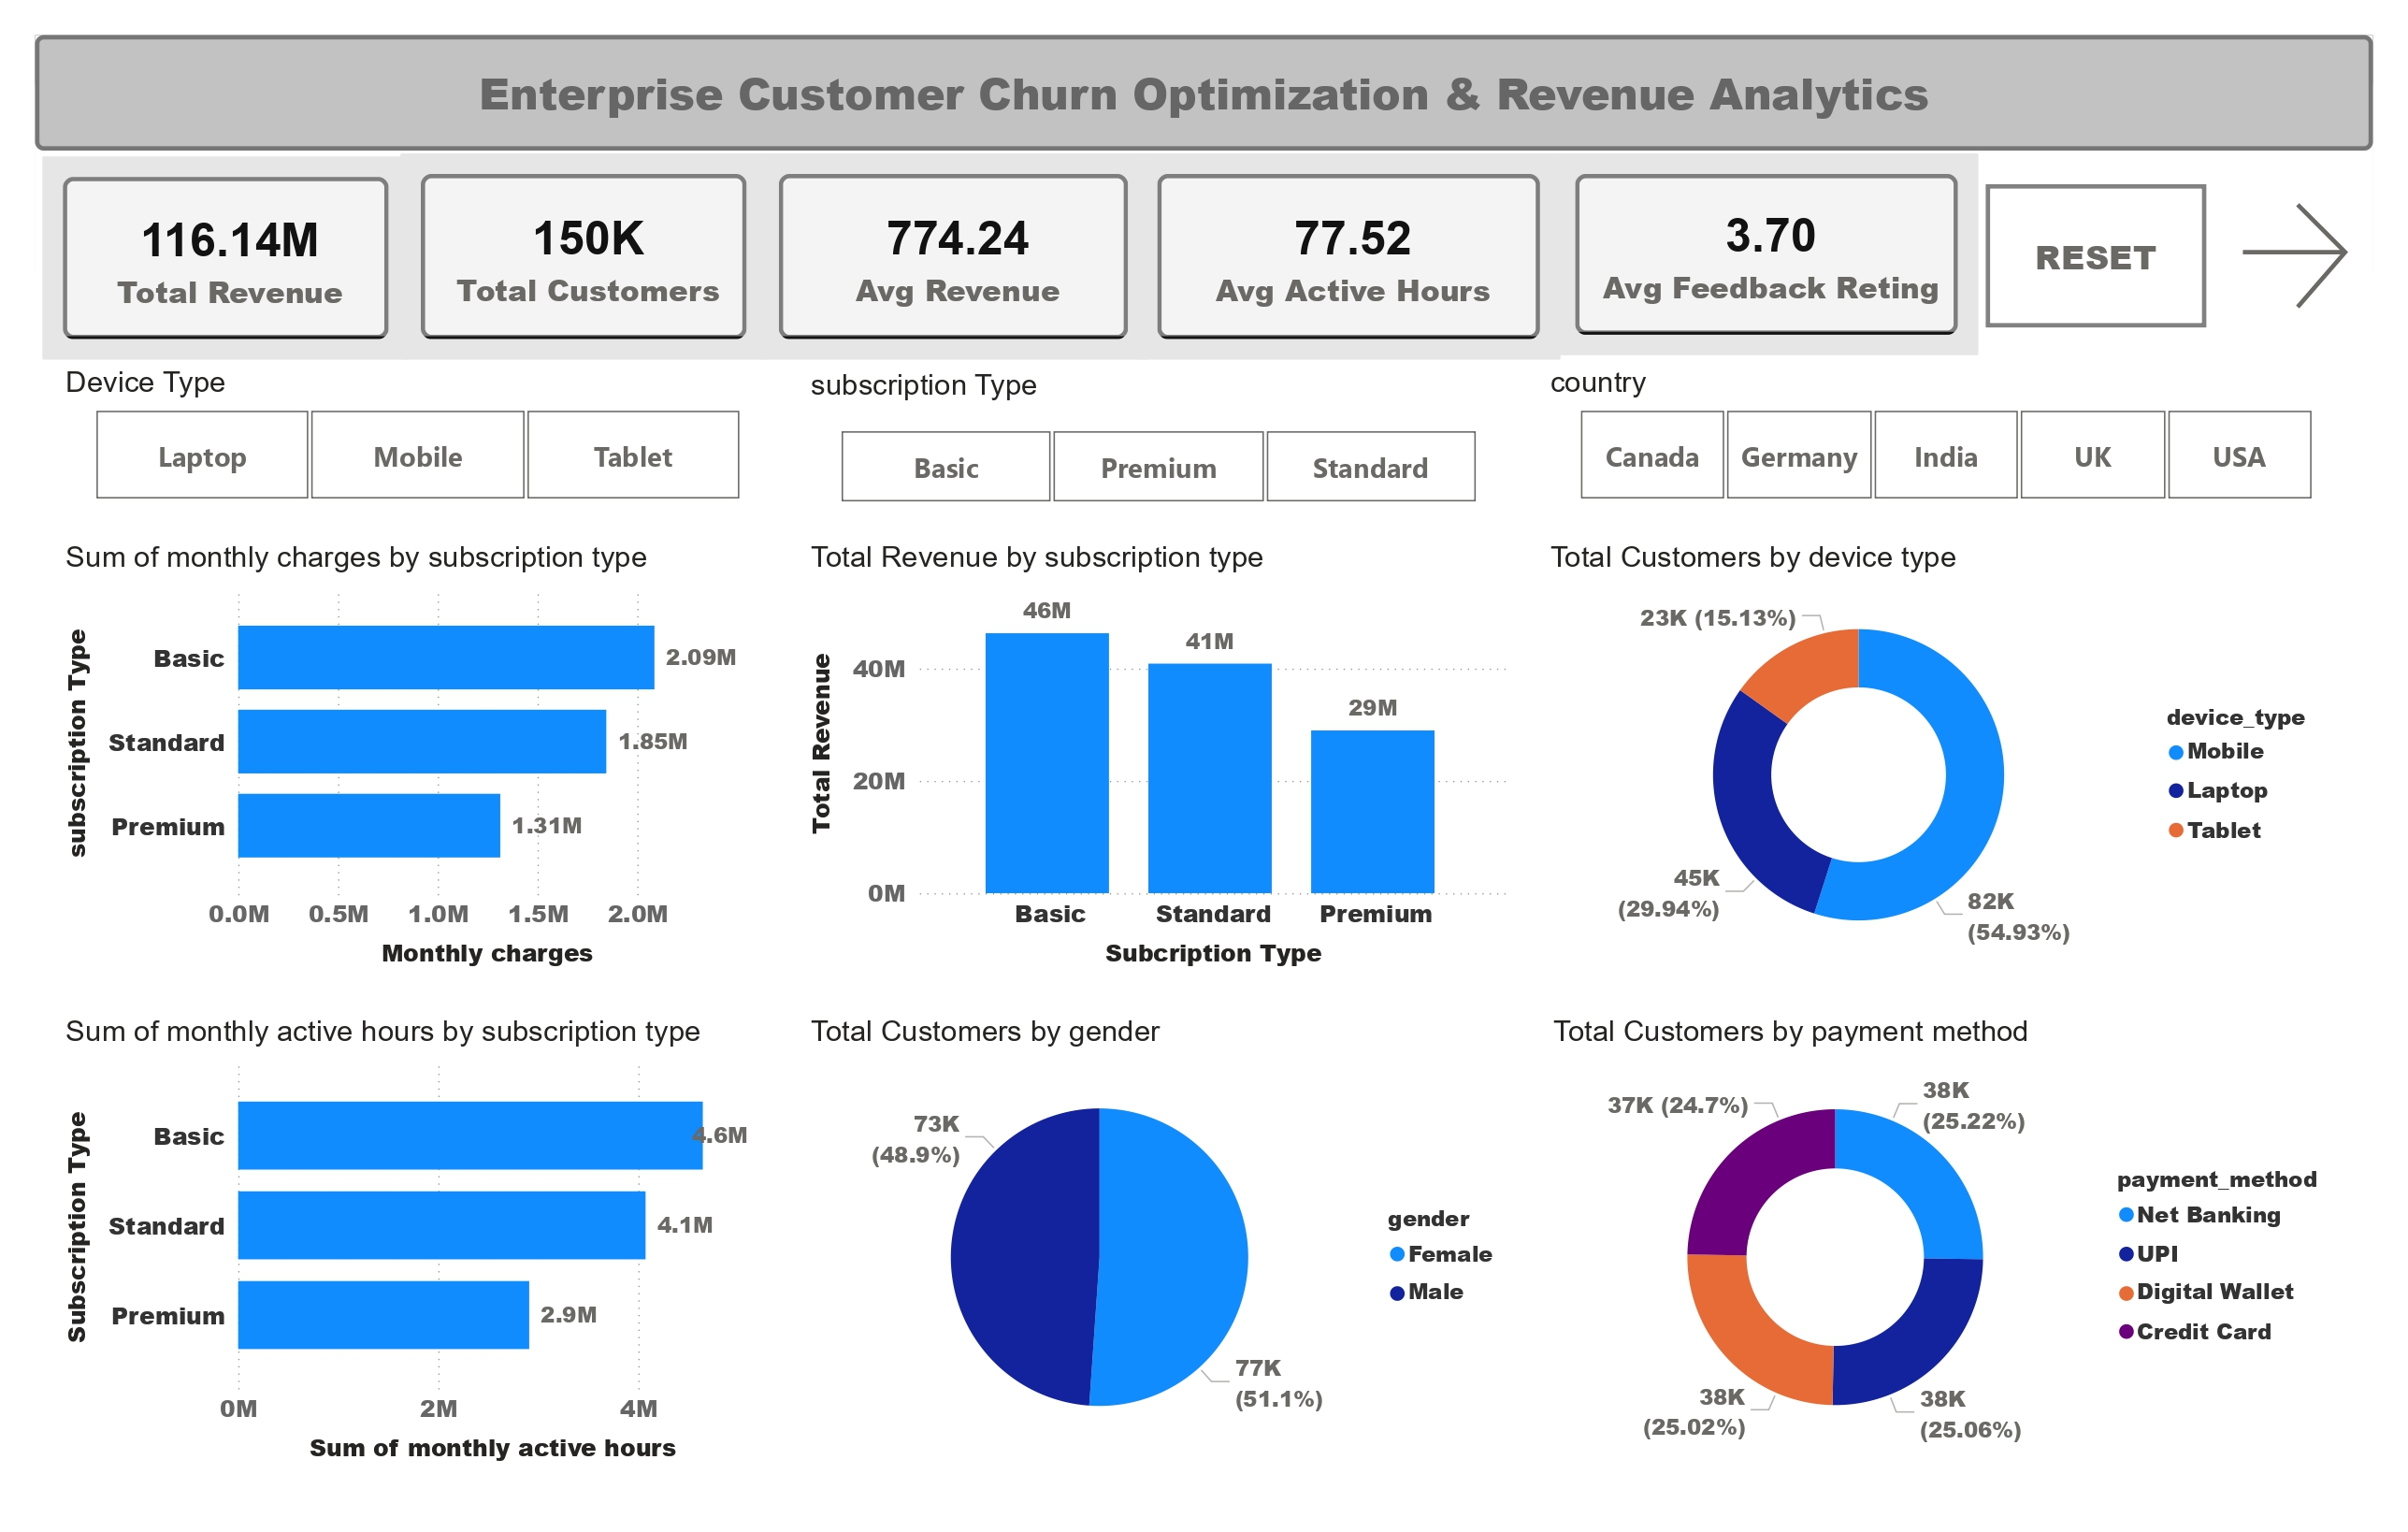

Layout of this report page (visuals, bound fields, positions):
{"tool":"powerbi","page":{"name":"Page 1","canvas":[1600,1000],"ordinal":0},"visuals":[{"type":"shape","box":[0,0,1600,79.1],"z":0},{"type":"cardVisual","fields":{"Data":["customer_churn.Total Customers"]},"box":[244.9,75.5,261.2,151],"z":1000},{"type":"cardVisual","fields":{"Data":["customer_churn.Total Revenue"]},"box":[0,77.6,261.2,149],"z":2000},{"type":"cardVisual","fields":{"Data":["customer_churn.Avg Revenue"]},"box":[489.8,75.5,277.6,151],"z":3000},{"type":"cardVisual","fields":{"Data":["customer_churn.Avg Active Hours"]},"box":[749,75.5,300,151],"z":4000},{"type":"cardVisual","fields":{"Data":["customer_churn.Average_Feedback_reting"]},"box":[1034.7,75.5,300,149],"z":5000},{"type":"clusteredColumnChart","title":"Total Revenue by subscription type","fields":{"Category":["customer_churn.subscription_type"],"Y":["customer_churn.Total Revenue"]},"box":[526,346,486,298],"z":6000},{"type":"donutChart","title":"Total Customers by device type","fields":{"Y":["customer_churn.Total Customers"],"Category":["customer_churn.device_type"]},"box":[1032,346,550,298],"z":7000},{"type":"donutChart","title":"Total Customers by payment method","fields":{"Y":["customer_churn.Total Customers"],"Category":["customer_churn.payment_method"]},"box":[1034,670,556,310],"z":8000},{"type":"clusteredBarChart","title":"Sum of monthly active hours by subscription type","fields":{"Y":["Sum(customer_churn.monthly_active_hours)"],"Category":["customer_churn.subscription_type"]},"box":[16,670,490,312],"z":9000},{"type":"pieChart","fields":{"Y":["customer_churn.Total Customers"],"Category":["customer_churn.gender"]},"box":[526,670,486,310],"z":10000},{"type":"slicer","title":"country","fields":{"Values":["customer_churn.country"]},"box":[1032,226,550,98],"z":11000},{"type":"slicer","title":"subscription Type","fields":{"Values":["customer_churn.subscription_type"]},"box":[526,228,484,98],"z":12000},{"type":"slicer","title":"Device Type","fields":{"Values":["customer_churn.device_type"]},"box":[16,226,490,98],"z":13000},{"type":"barChart","title":"Sum of monthly charges by subscription type","fields":{"Category":["customer_churn.subscription_type"],"Y":["Sum(customer_churn.monthly_charges)"]},"box":[16,346,490,298],"z":14000},{"type":"actionButton","box":[1502,102,88,98],"z":15000},{"type":"actionButton","box":[1334.7,102,151,98],"z":16000}]}

Visuals, with their boxes on the page's 1600x1000 design canvas (x1, y1, x2, y2). These are canvas units, not pixel positions in the 2408x1532 screenshot, which may show the page scaled, cropped or inside an application window:
shape: <region>0, 0, 1600, 79</region>
cardVisual - customer_churn.Total Customers: <region>245, 76, 506, 226</region>
cardVisual - customer_churn.Total Revenue: <region>0, 78, 261, 227</region>
cardVisual - customer_churn.Avg Revenue: <region>490, 76, 767, 226</region>
cardVisual - customer_churn.Avg Active Hours: <region>749, 76, 1049, 226</region>
cardVisual - customer_churn.Average_Feedback_reting: <region>1035, 76, 1335, 224</region>
"Total Revenue by subscription type" clusteredColumnChart: <region>526, 346, 1012, 644</region>
"Total Customers by device type" donutChart: <region>1032, 346, 1582, 644</region>
"Total Customers by payment method" donutChart: <region>1034, 670, 1590, 980</region>
"Sum of monthly active hours by subscription type" clusteredBarChart: <region>16, 670, 506, 982</region>
pieChart - customer_churn.Total Customers x customer_churn.gender: <region>526, 670, 1012, 980</region>
"country" slicer: <region>1032, 226, 1582, 324</region>
"subscription Type" slicer: <region>526, 228, 1010, 326</region>
"Device Type" slicer: <region>16, 226, 506, 324</region>
"Sum of monthly charges by subscription type" barChart: <region>16, 346, 506, 644</region>
actionButton: <region>1502, 102, 1590, 200</region>
actionButton: <region>1335, 102, 1486, 200</region>
